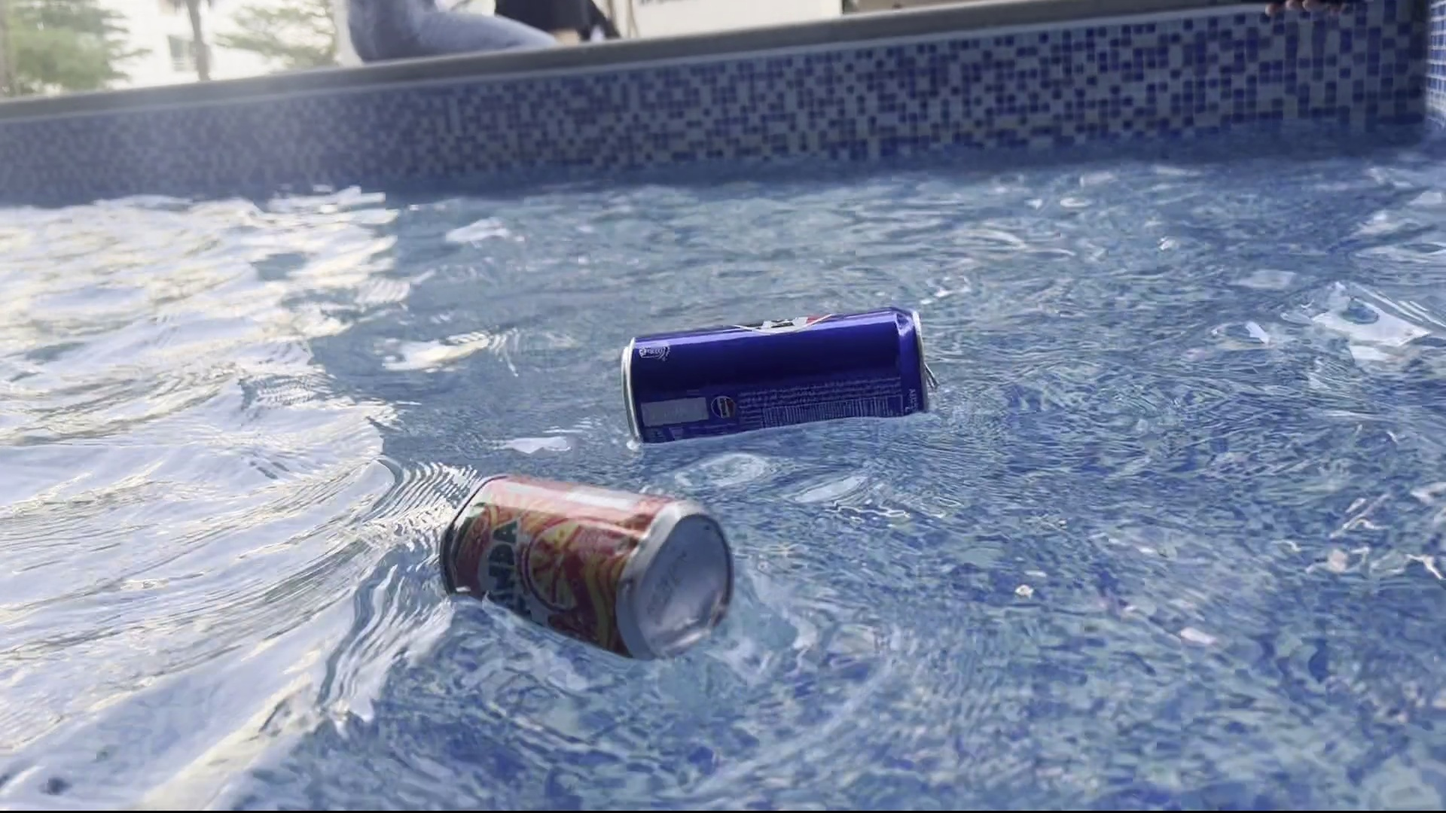debris: (426, 461, 746, 681), (615, 295, 945, 453)
